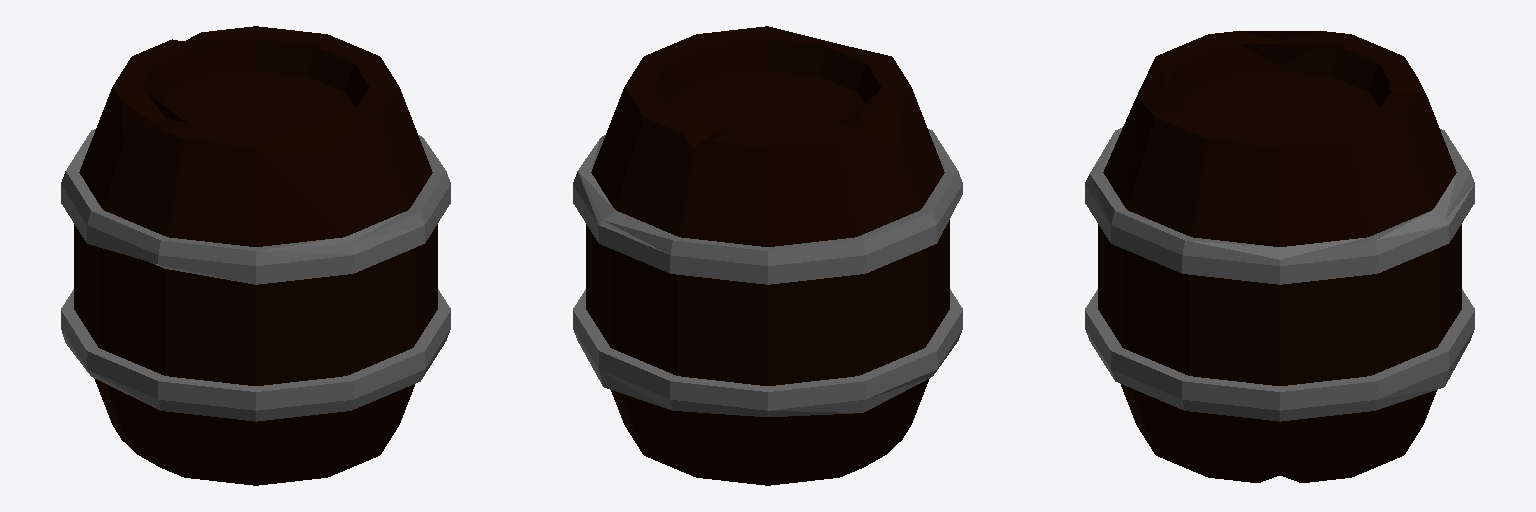
File: barrel.obj
The picture shows the model from 3 angles: view 1: azimuth 30°, elevation 25°; view 2: azimuth 150°, elevation 25°; view 3: azimuth 270°, elevation 25°; orthographic projection.
Parts seen in each view (by area): view 1: Cylinder; view 2: Cylinder; view 3: Cylinder.
Boxes of the visible parts, box(x1,y1,x2,y2) form: Cylinder: box(61, 26, 450, 485); Cylinder: box(573, 26, 962, 485); Cylinder: box(1085, 31, 1474, 482).
Bounding box in the file's own units: 0.6112 × 0.5841 × 0.6112.